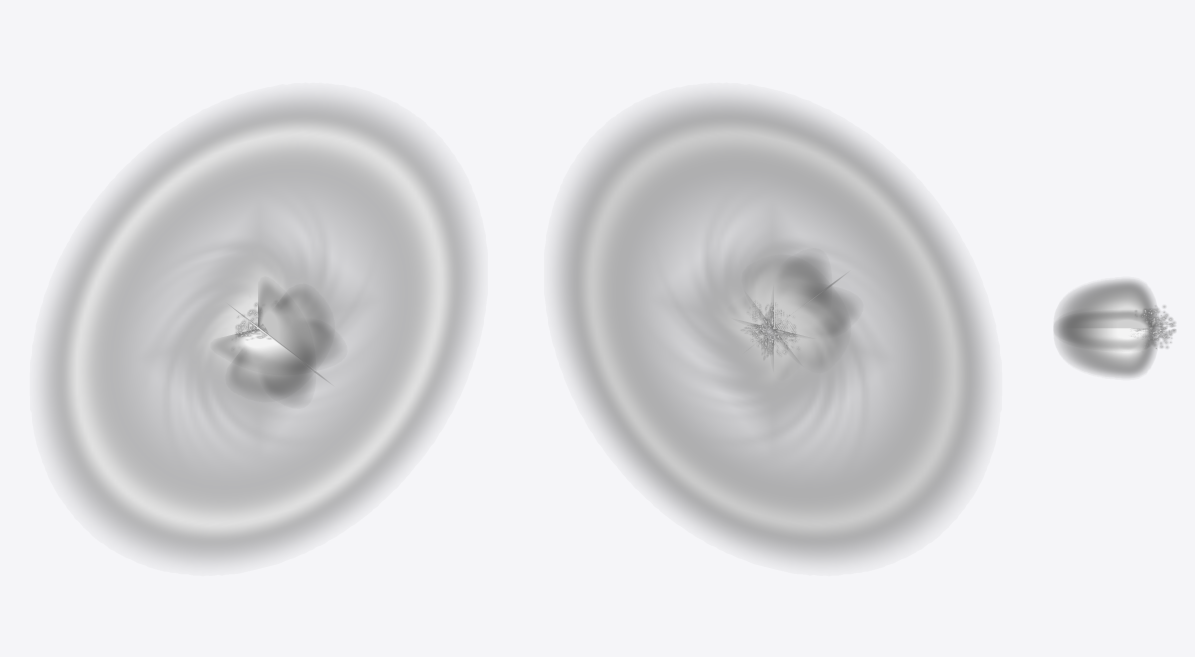
File: si_ees_2010.glb
The picture shows the model from 3 angles, left to right: view 1: azimuth 30°, elevation 25°; view 2: azimuth 150°, elevation 25°; view 3: azimuth 270°, elevation 25°; orthographic projection. The views are drawn at different scales.
Visible parts, largest first — view 1: layer_03_si_est_0402, layer_01_si_est_0103; view 2: layer_03_si_est_0402, layer_01_si_est_0103, layer_02_si_est_0200; view 3: layer_01_si_est_0103, layer_02_si_est_0200.
Boxes of the visible parts, x1=… form: layer_03_si_est_0402: x1=43, y1=97, x2=474, y2=561; layer_01_si_est_0103: x1=216, y1=282, x2=339, y2=401; layer_03_si_est_0402: x1=557, y1=97, x2=988, y2=561; layer_01_si_est_0103: x1=747, y1=257, x2=852, y2=358; layer_02_si_est_0200: x1=742, y1=302, x2=799, y2=358; layer_01_si_est_0103: x1=1054, y1=280, x2=1157, y2=376; layer_02_si_est_0200: x1=1131, y1=306, x2=1175, y2=348.
Bounding box in the file's own units: 6400 × 6400 × 1820.
5 materials, 5 textured.
